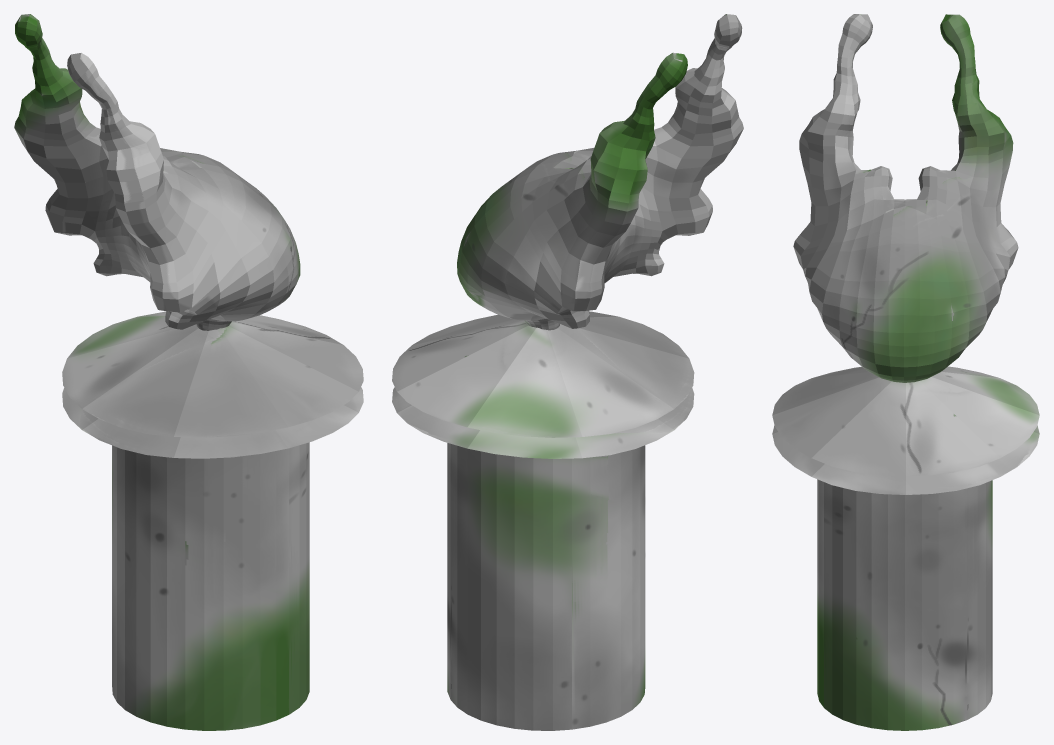
The model's file is Statue 2.fbx.
3 renders of one model, left to right at view 1: azimuth 30°, elevation 25°; view 2: azimuth 150°, elevation 25°; view 3: azimuth 270°, elevation 25°, orthographic. The views are drawn at different scales.
Visible parts, largest first — view 1: Low.002; view 2: Low.002; view 3: Low.002.
Boxes of the visible parts, x1,y1,x2,y2 form: Low.002: [14, 14, 363, 730]; Low.002: [392, 14, 743, 730]; Low.002: [772, 14, 1039, 730].
Bounding box in the file's own units: 534 × 1176 × 465.
Materials: 1 (1 with a texture image).
